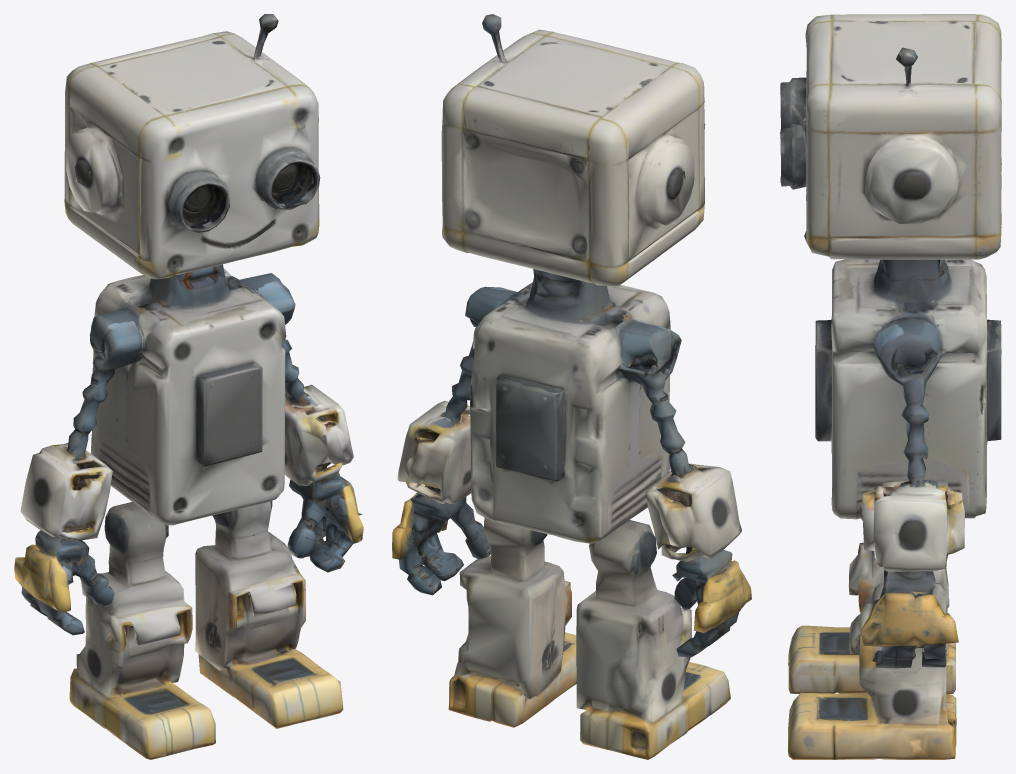
File: robot.glb
The picture shows the model from 3 angles, left to right: view 1: azimuth 30°, elevation 25°; view 2: azimuth 150°, elevation 25°; view 3: azimuth 270°, elevation 25°; orthographic projection. The views are drawn at different scales.
Bounding box in the file's own units: 0.9928 × 2 × 0.5737.
Materials: 1 (1 with a texture image).
